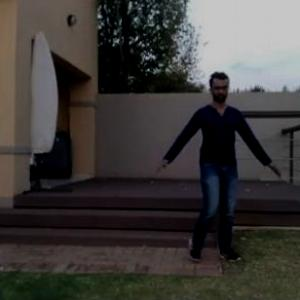land: (154, 84, 267, 270)
